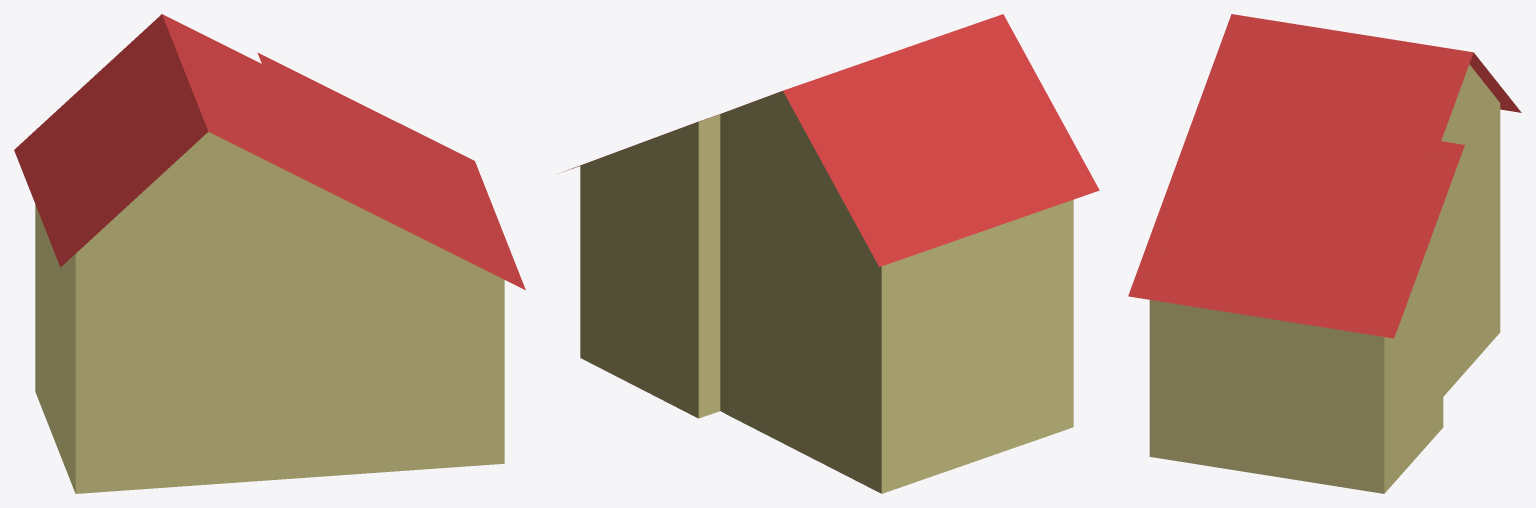
The picture shows the model from 3 angles, left to right: view 1: azimuth 30°, elevation 25°; view 2: azimuth 150°, elevation 25°; view 3: azimuth 270°, elevation 25°; orthographic projection. The views are drawn at different scales.
Bounding box in the file's own units: 14.95 × 11.67 × 10.8.
